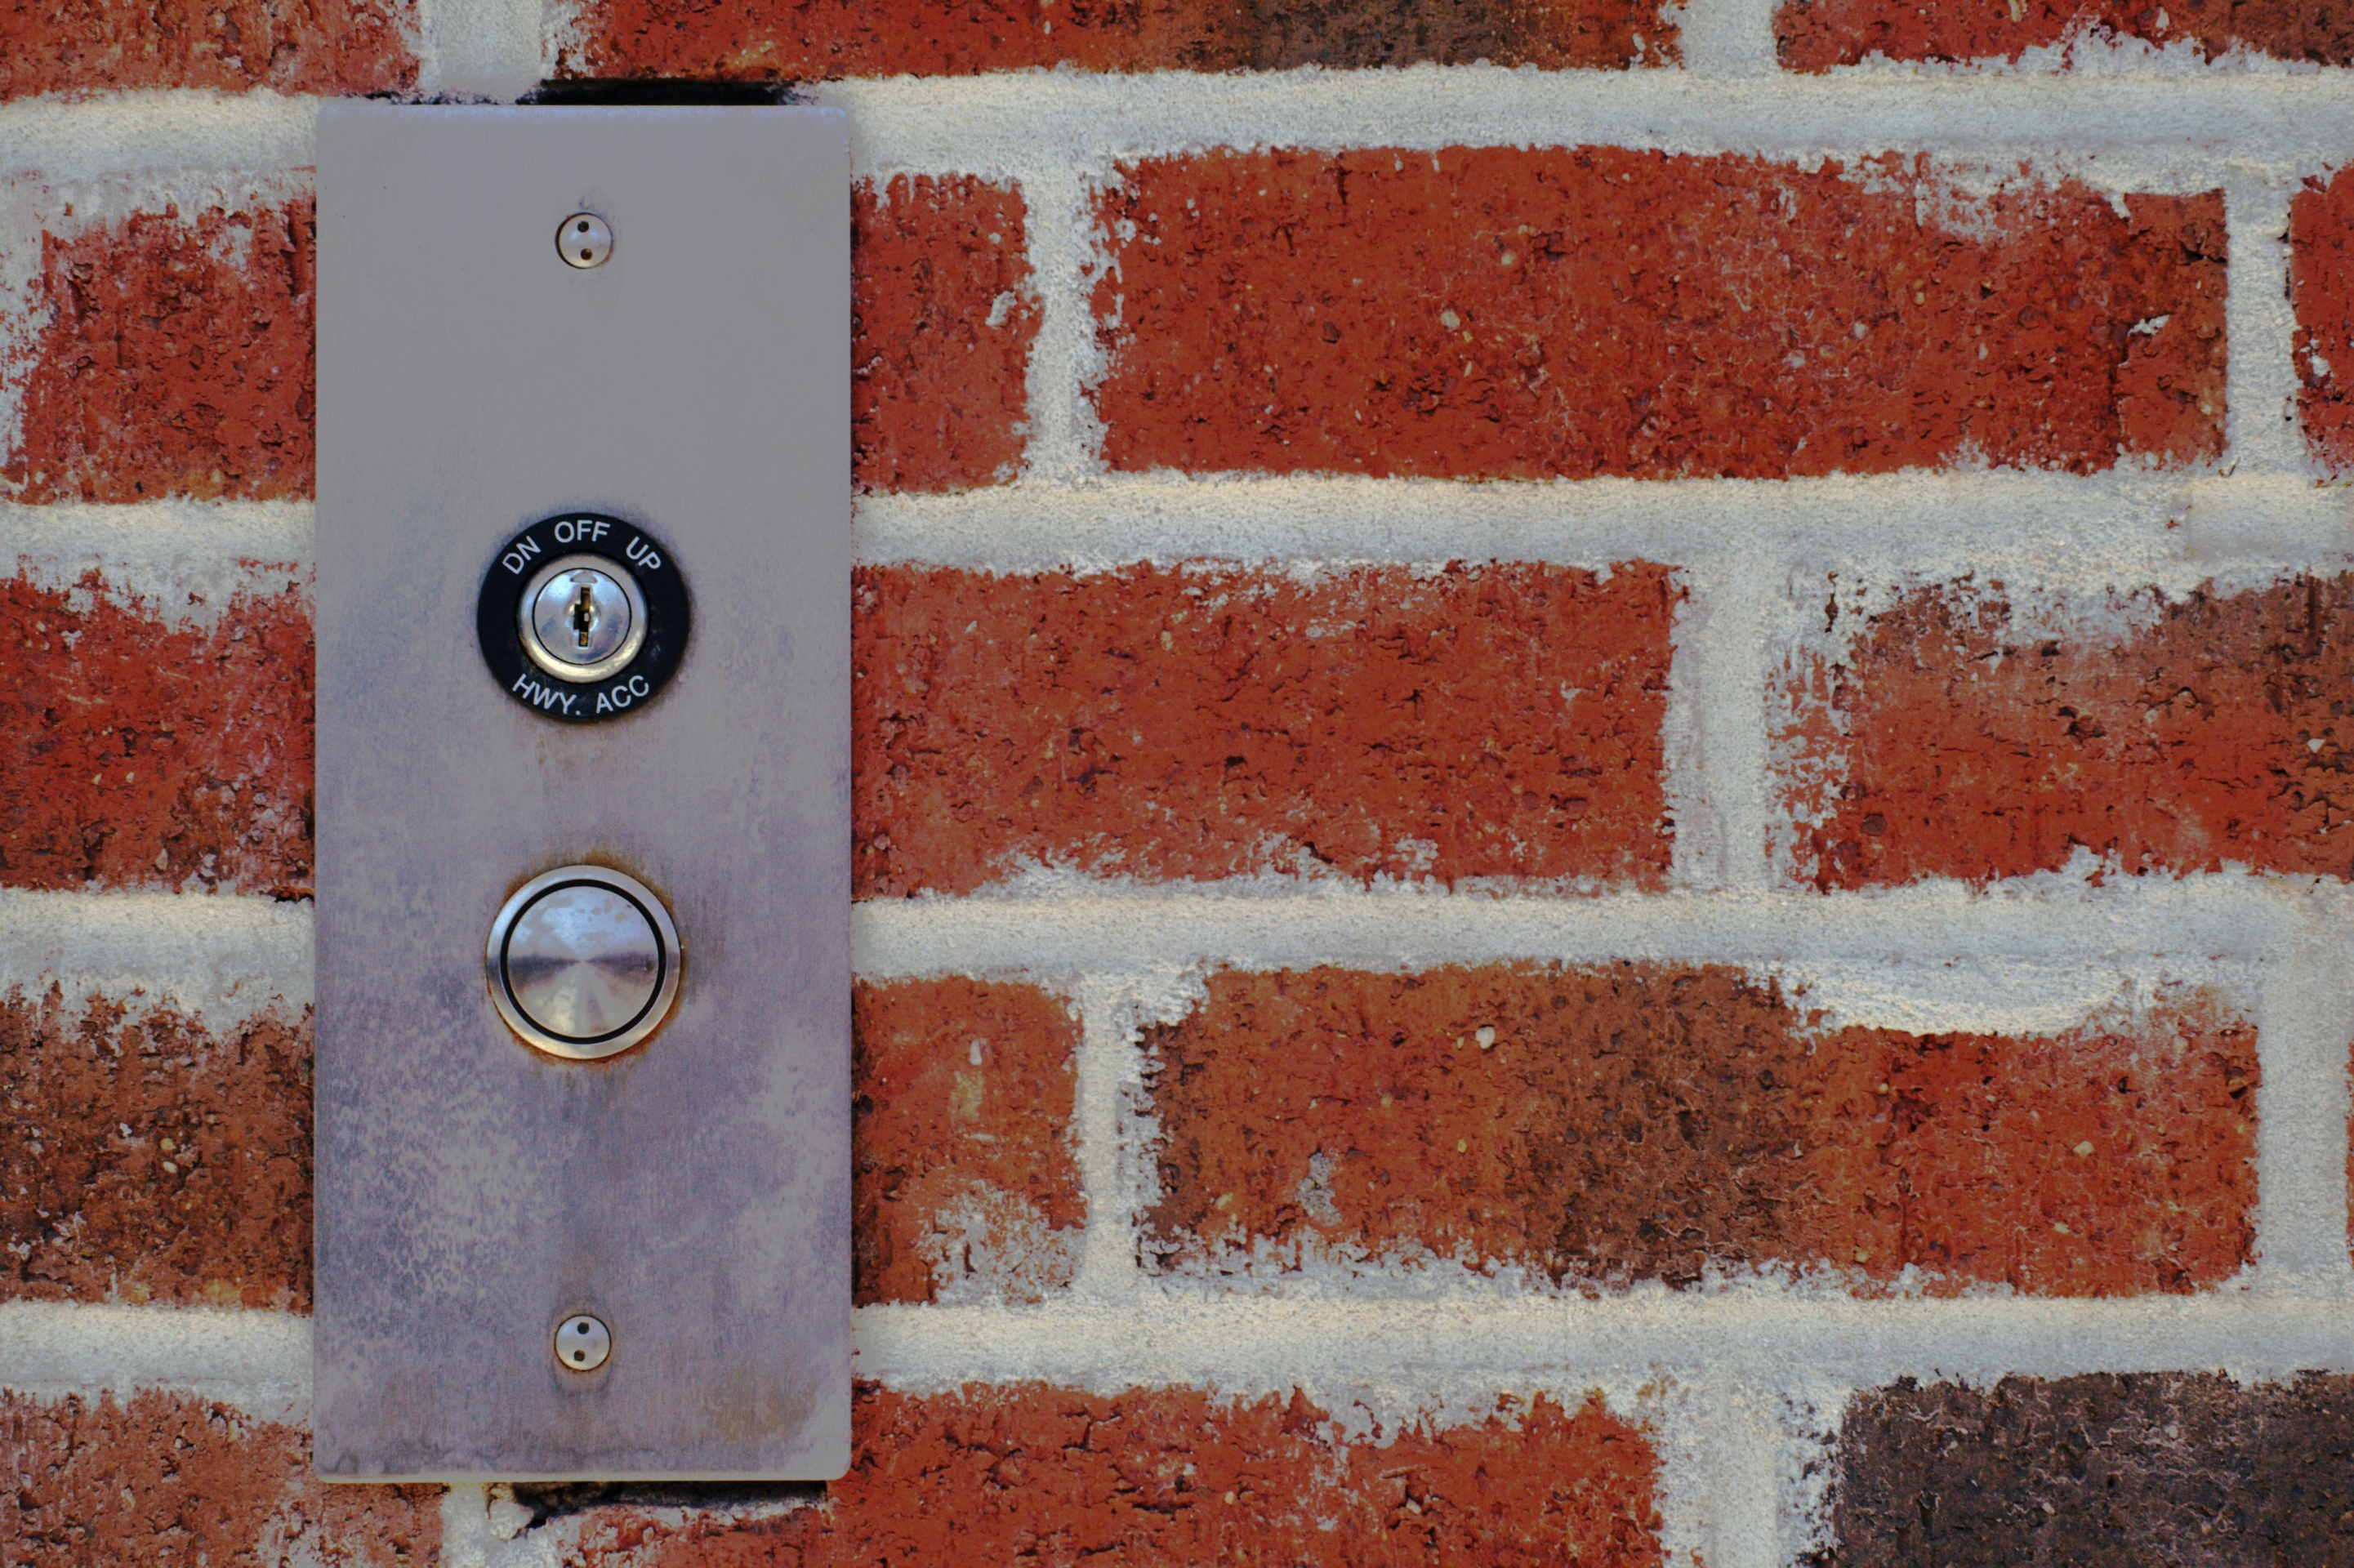empty: (481, 857, 683, 1060)
keyhole: (478, 511, 690, 726)
